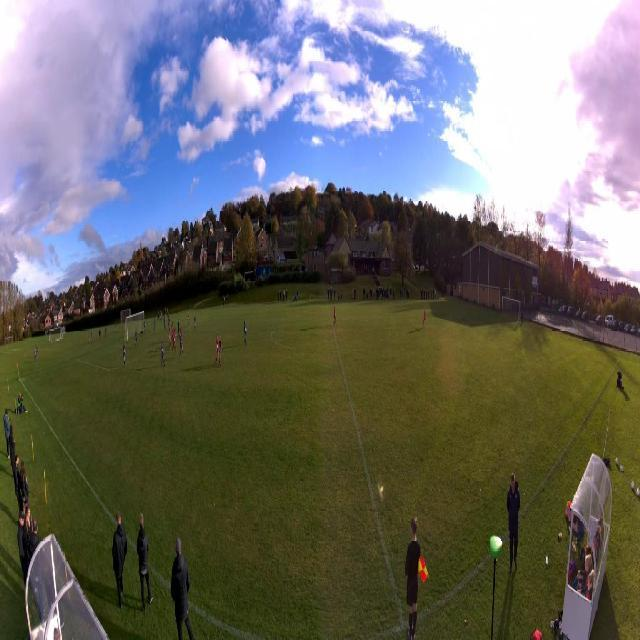player: (243, 321, 248, 346), (215, 334, 219, 365), (180, 333, 185, 357), (172, 328, 177, 352), (219, 336, 222, 366), (161, 342, 165, 364), (333, 305, 337, 326), (123, 342, 126, 366), (423, 307, 426, 328), (177, 319, 180, 339), (135, 329, 138, 348), (194, 313, 197, 329), (180, 325, 183, 341), (169, 329, 171, 350), (171, 322, 174, 334), (188, 311, 190, 326), (164, 314, 166, 329), (154, 317, 156, 331), (168, 316, 170, 330), (144, 321, 146, 333)
